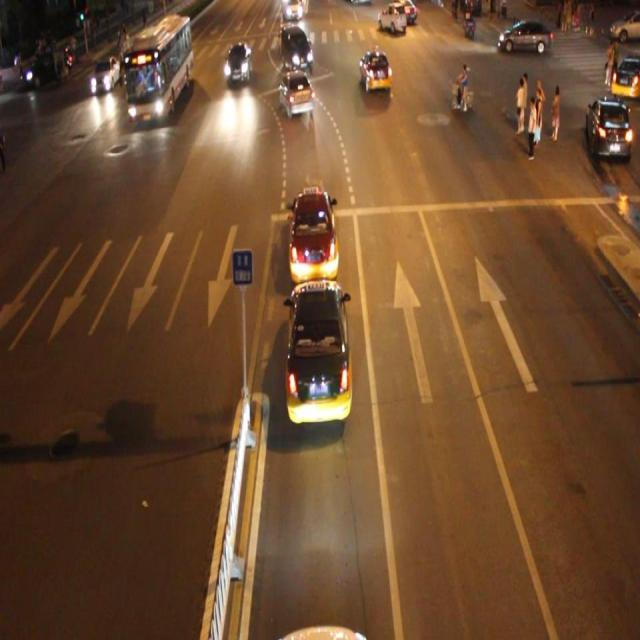car: (285, 276, 352, 420), (287, 188, 339, 284), (279, 70, 314, 117), (280, 28, 314, 75), (359, 49, 392, 94), (225, 42, 251, 84)
van: (126, 18, 191, 121)
